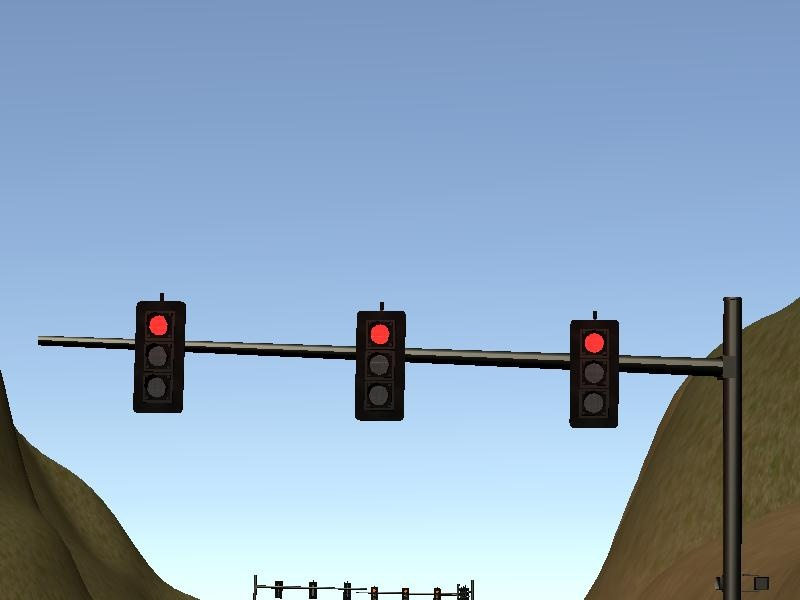RED: (569, 319, 620, 428), (355, 311, 406, 420), (133, 302, 184, 411)
